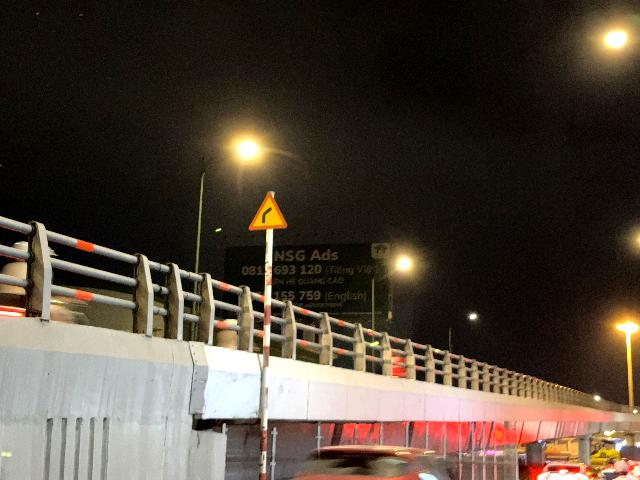cho-ngoat-nguy-hiem-ben-phai: (248, 190, 288, 231)
